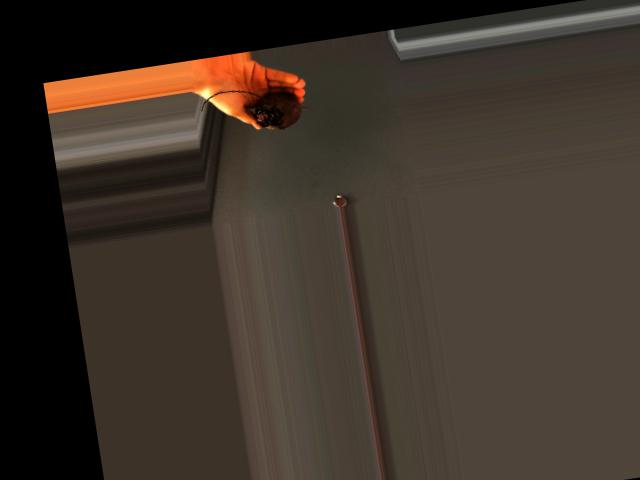beet: (200, 77, 316, 139)
